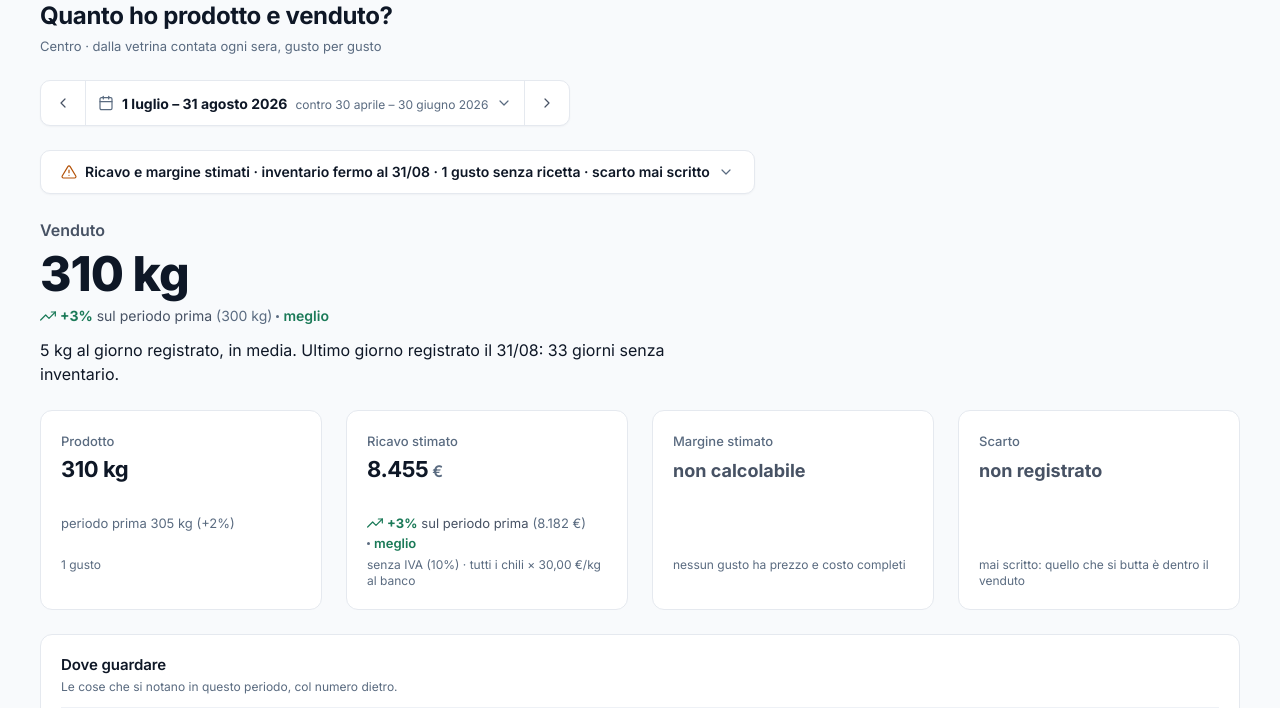
Test: Lo Storico a inventario si apre sui giorni registrati › «30 giorni» senza niente registrato dice dove finiscono i dati, non -100%
This screenshot has width=1280, height=708.
Click the button with aria-label "Periodo:".
click(305, 103)  # box [85,81,525,125]
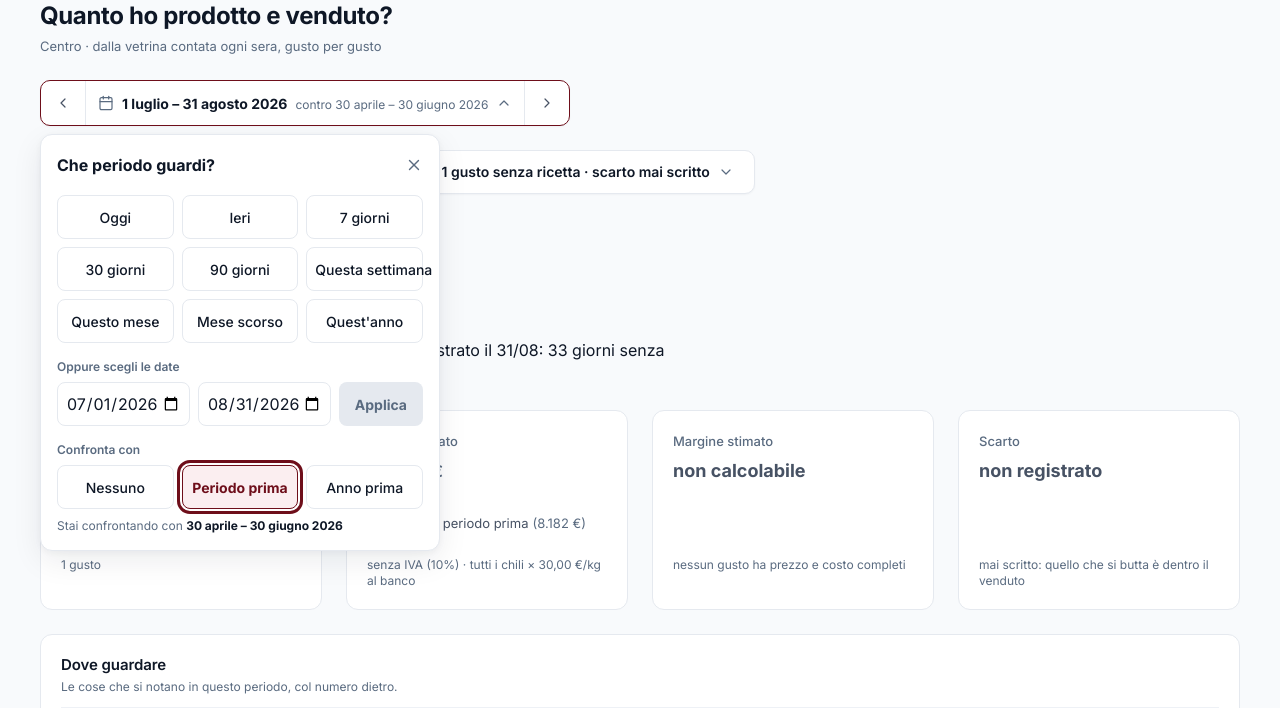
Click the button "30 giorni".
click(115, 269)  # box [57,247,174,291]
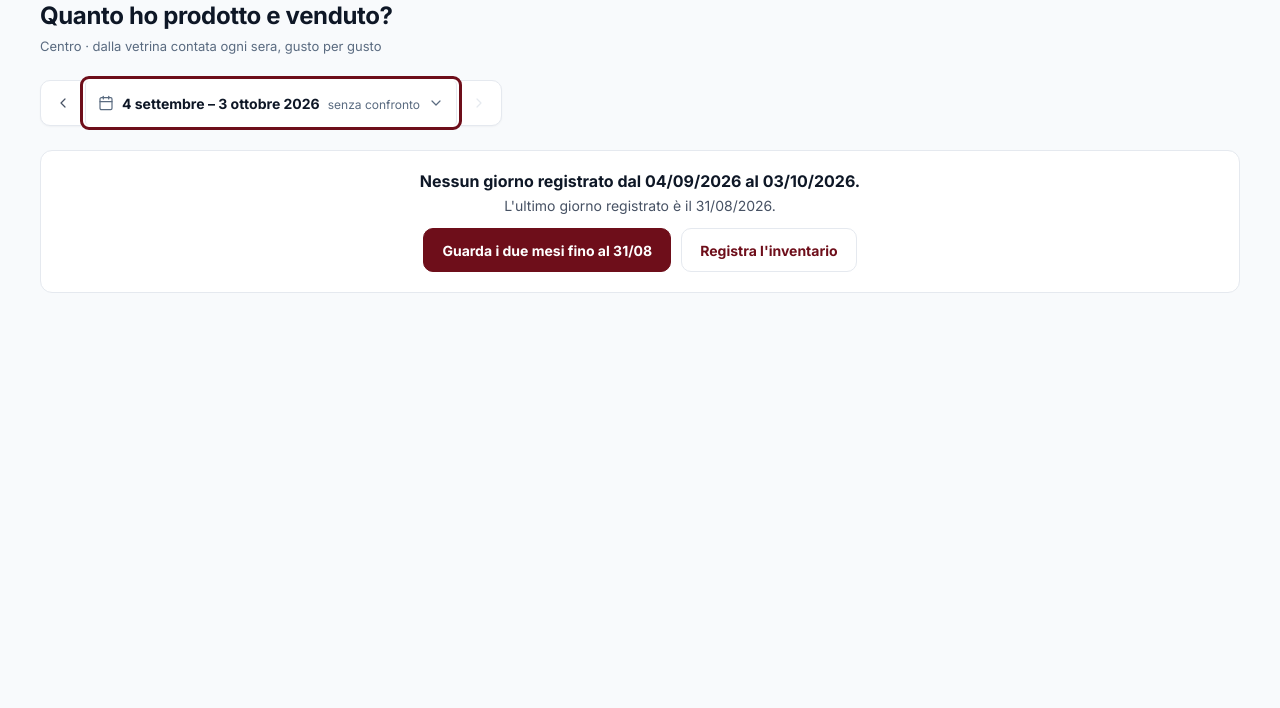
Expected: the text "Nessun giorno registrato dal 04/09/2026 al 03/10/2026." is shown, [420,171,860,191]
Expected: the text "L'ultimo giorno registrato è il 31/08/2026" is shown, [504,197,776,214]
Expected: the button "Guarda i due mesi fino al 31/08" is shown, [423,228,671,272]
